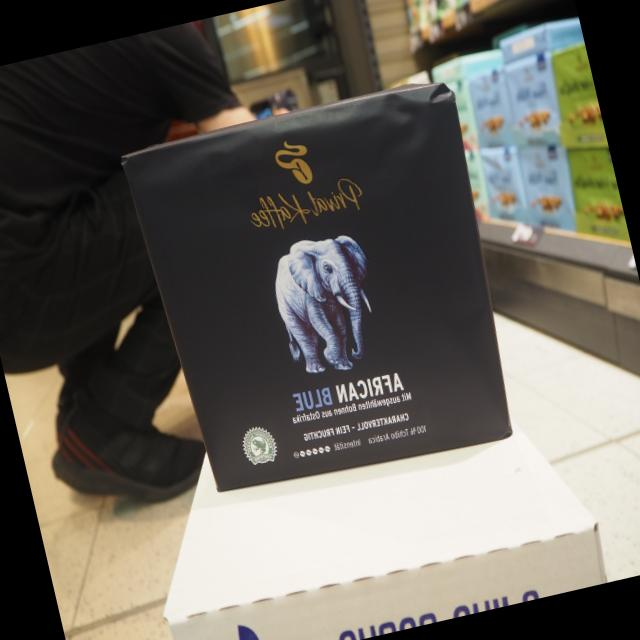AB Gemahlen: (114, 71, 518, 497)
